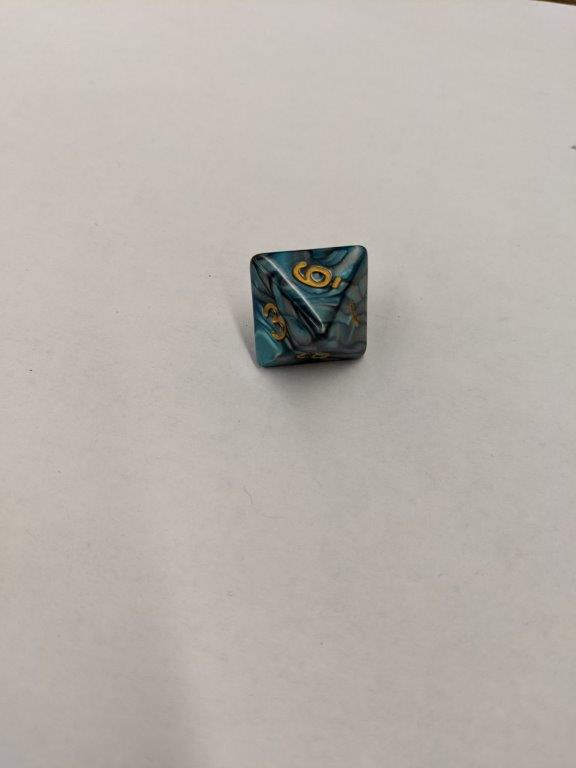d8-6: (248, 239, 370, 367)
